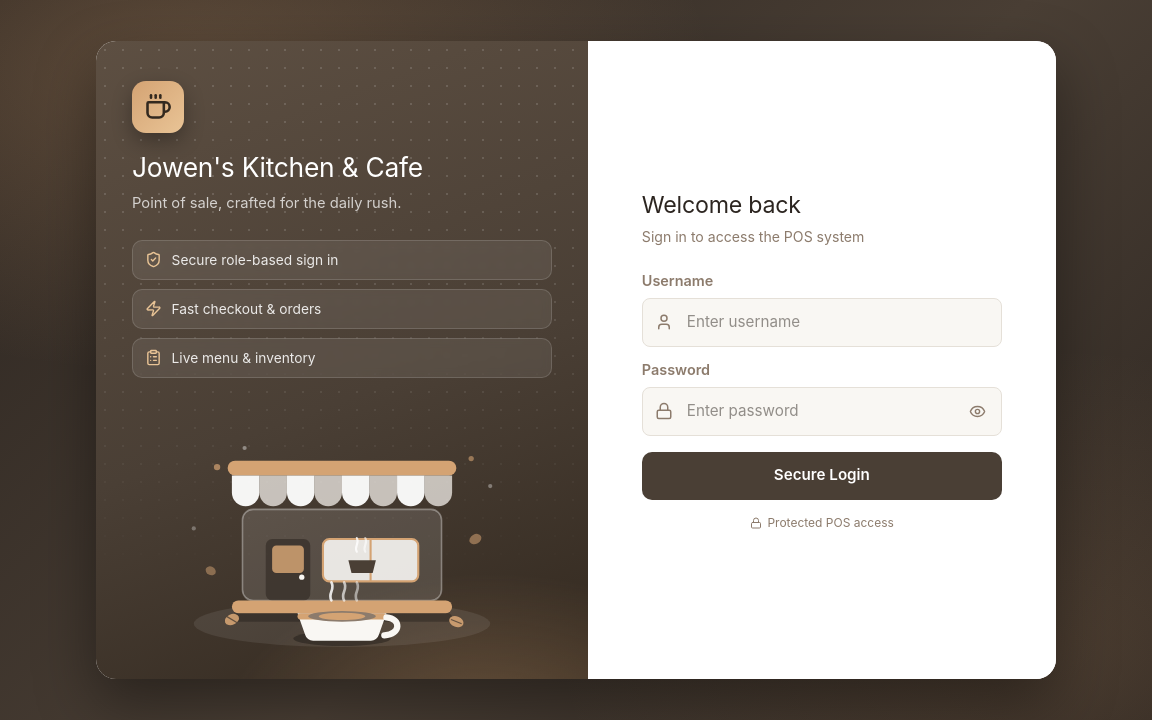
it: LoginPage - Authentication › should show error when username is empty
Click the button with test id "login-button" at (822, 476), box [642,452,1002,500]
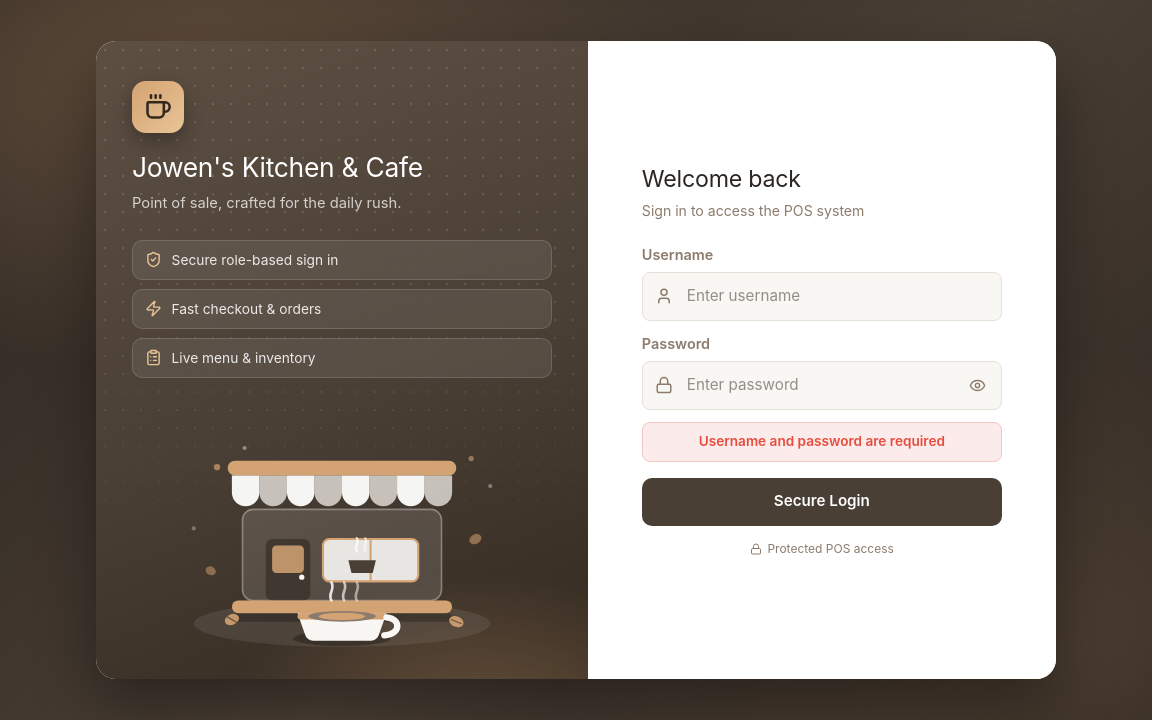
Result: the message with test id "error-message" reads "Username and password are required" at [699,433,945,449]
